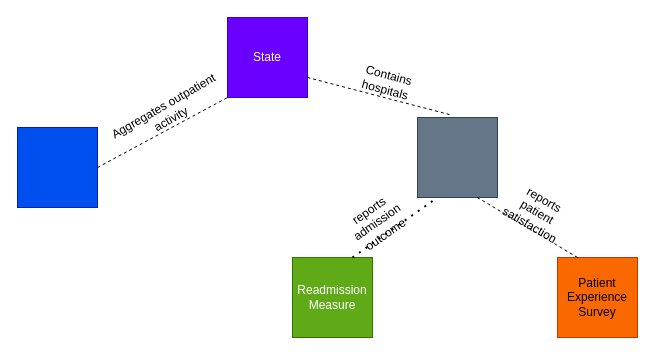
Image size: 655x355. Some labels were removed from this diagram. Each missing label, with the centre of its shape:
"Hospital" belongs at pixel 457 157.
"Outpatient Services" belongs at pixel 57 167.
